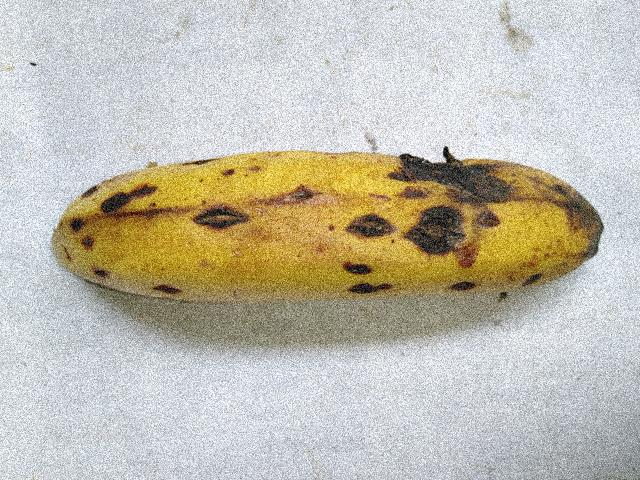rotten: (381, 129, 536, 267), (546, 158, 628, 262), (180, 186, 261, 246), (75, 157, 153, 217), (331, 258, 408, 311), (265, 168, 330, 213), (130, 264, 196, 306), (344, 194, 396, 244)
